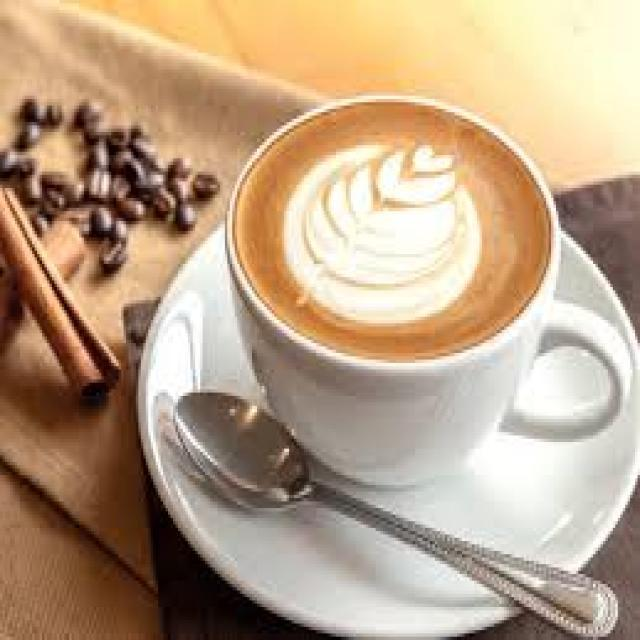taza: (207, 87, 632, 496)
